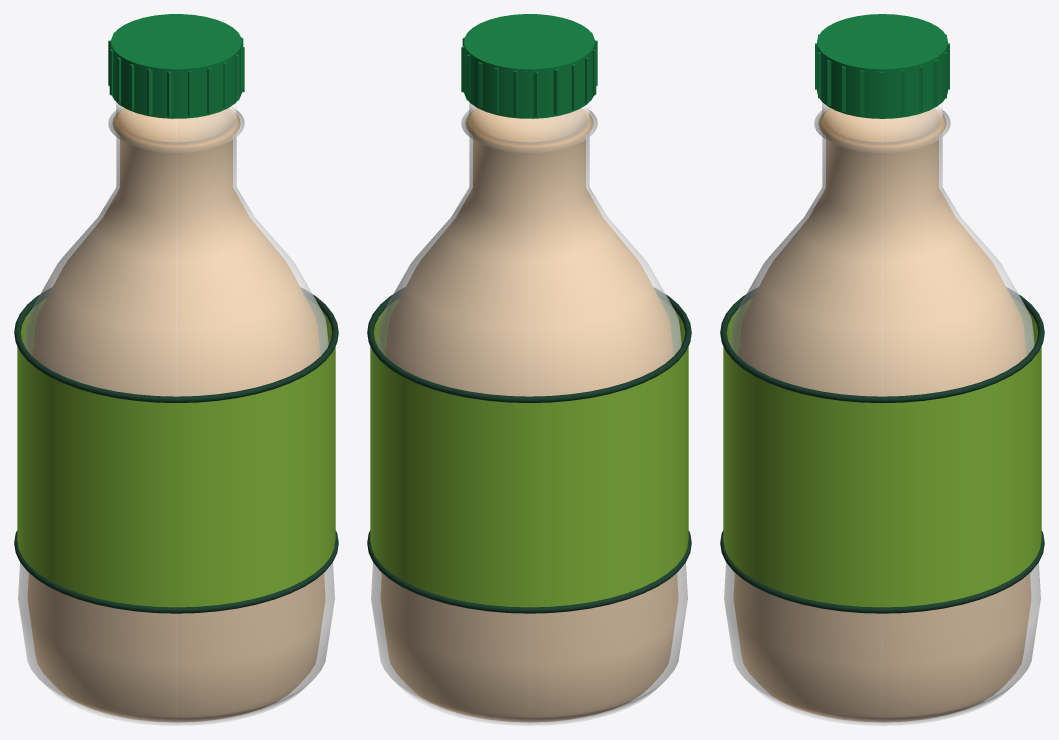
The model's file is beverage-default.glb.
3 renders of one model, left to right at view 1: azimuth 30°, elevation 25°; view 2: azimuth 150°, elevation 25°; view 3: azimuth 270°, elevation 25°, orthographic.
Visible parts, largest first — view 1: object 1, object 2, ProductLabel, object 6, object 4, object 5; view 2: object 1, object 2, ProductLabel, object 6, object 4, object 5; view 3: object 1, object 2, ProductLabel, object 6, object 4, object 5.
Part boxes in pixels (x1=…): object 1: x1=18, y1=102, x2=334, y2=725; object 2: x1=28, y1=108, x2=324, y2=722; ProductLabel: x1=17, y1=298, x2=335, y2=607; object 6: x1=111, y1=14, x2=241, y2=118; object 4: x1=14, y1=288, x2=338, y2=402; object 5: x1=14, y1=530, x2=338, y2=613; object 1: x1=371, y1=102, x2=687, y2=725; object 2: x1=381, y1=108, x2=677, y2=722; ProductLabel: x1=370, y1=298, x2=688, y2=607; object 6: x1=464, y1=14, x2=594, y2=118; object 4: x1=367, y1=288, x2=691, y2=402; object 5: x1=367, y1=530, x2=691, y2=613; object 1: x1=724, y1=102, x2=1040, y2=725; object 2: x1=734, y1=108, x2=1030, y2=722; ProductLabel: x1=723, y1=298, x2=1041, y2=607; object 6: x1=817, y1=14, x2=947, y2=118; object 4: x1=720, y1=288, x2=1044, y2=403; object 5: x1=720, y1=530, x2=1044, y2=613.
Bounding box in the file's own units: 1.19 × 2.55 × 1.19.
